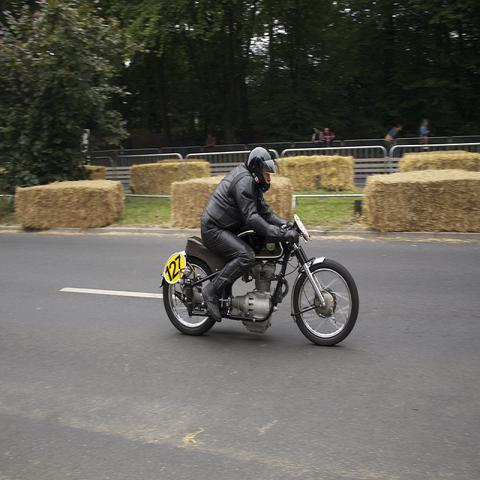motorcycle: (158, 216, 359, 347)
